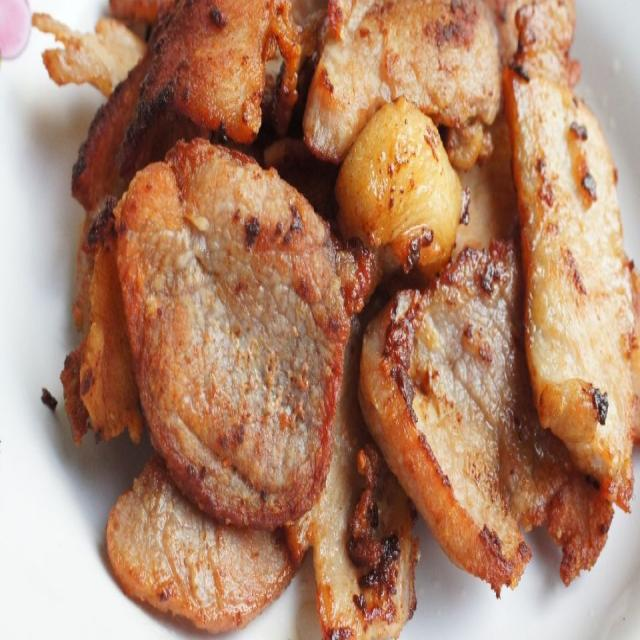thit chien: (33, 0, 579, 269), (114, 140, 377, 529), (359, 243, 598, 594), (503, 69, 635, 507), (107, 456, 295, 632)
